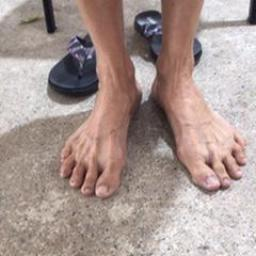Front View -Both Feet-: (52, 19, 251, 204)
